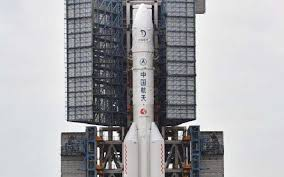ten_lua: (127, 3, 168, 177)
